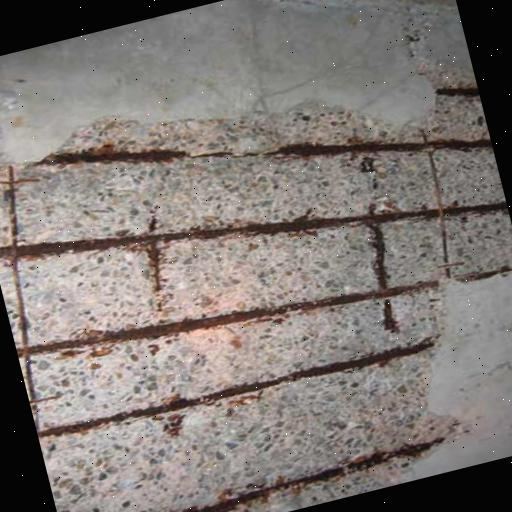spalling: (0, 65, 512, 512)
